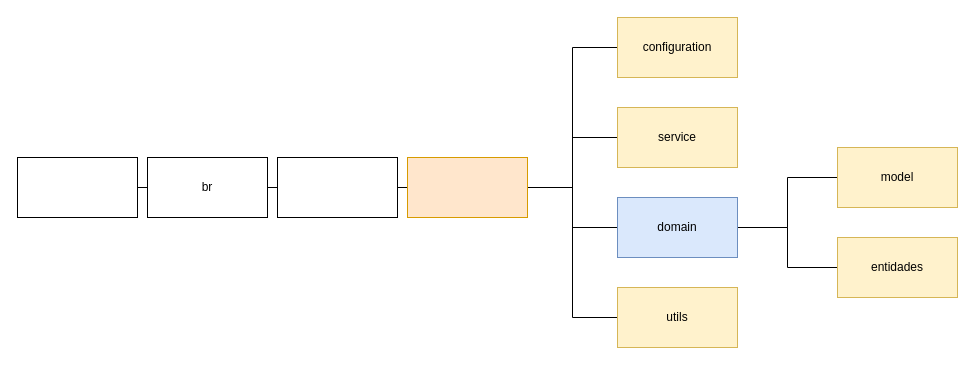
The diagram is 975 pixels wide and 365 high, and some of its shapes have lost their labels. Here are the shapes that lost their labels. From the top down, the box of each, then its label:
(16, 156, 138, 218): com
(276, 156, 398, 218): empresa
(406, 156, 528, 218): simulacao
